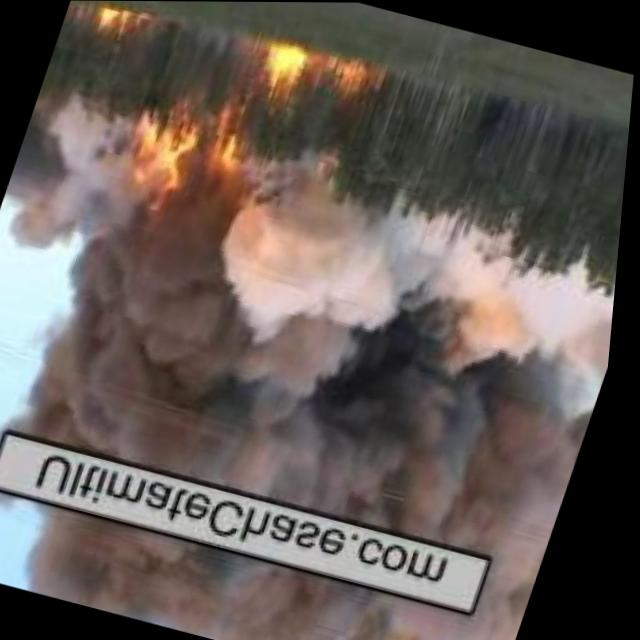Fire: (106, 106, 207, 230), (257, 45, 309, 99), (205, 124, 248, 174), (91, 1, 137, 38), (333, 61, 376, 94)
